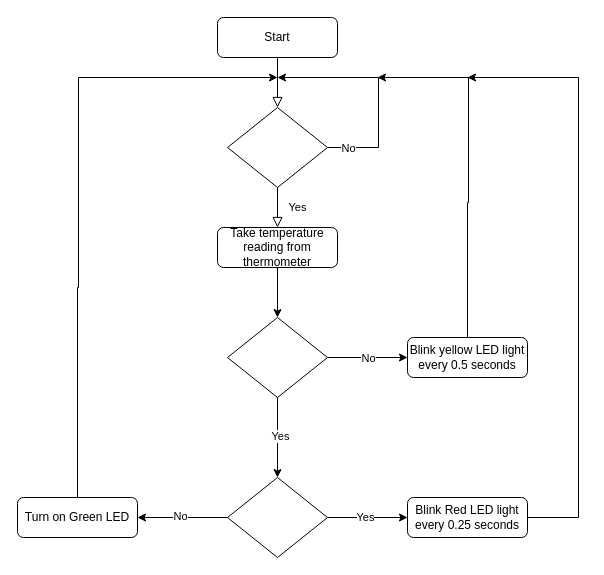
The diagram is 604 pixels wide and 575 high, and some of its shapes have lost their labels. Here are the shapes that lost their labels. From the top down, the centre of each, then its label:
At pixel 277 147: "Has a second passed?".
At pixel 277 357: "Is the temperature greater than 18C?".
At pixel 277 517: "Is the temperature greater than 24C?".
